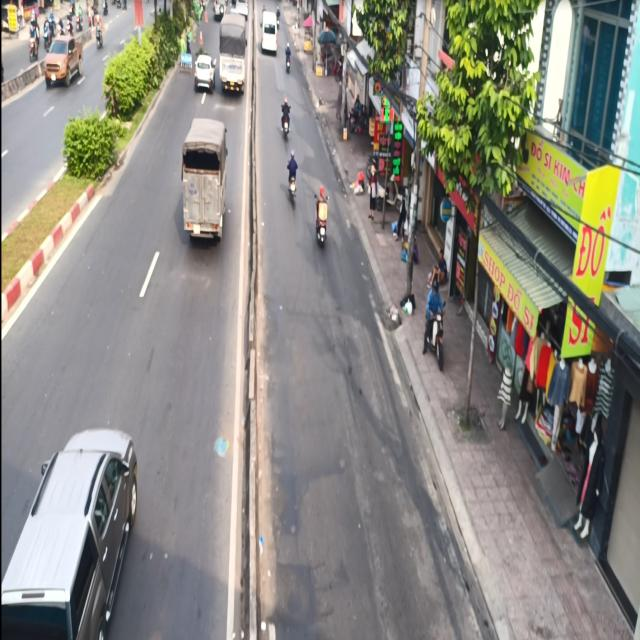car: (4, 414, 145, 640), (260, 9, 282, 58), (194, 46, 214, 94)
motor: (312, 188, 335, 252), (286, 151, 300, 207), (282, 98, 292, 140)
truck: (176, 110, 228, 260), (217, 15, 251, 101)
